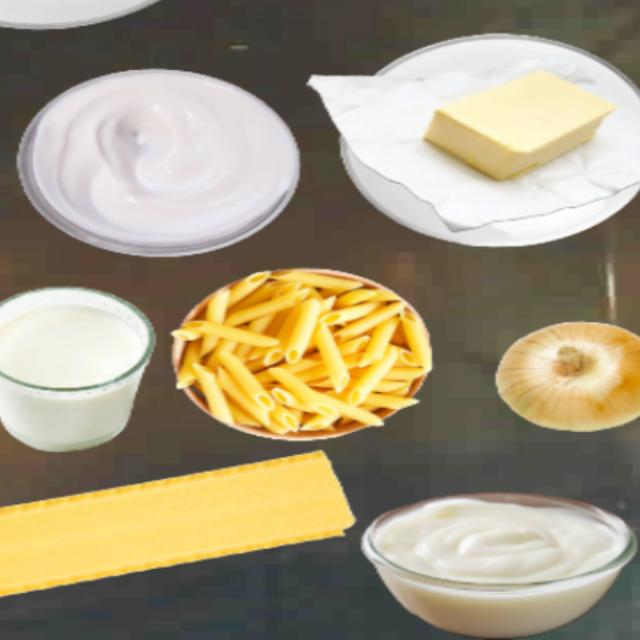Milk: (0, 284, 156, 453)
